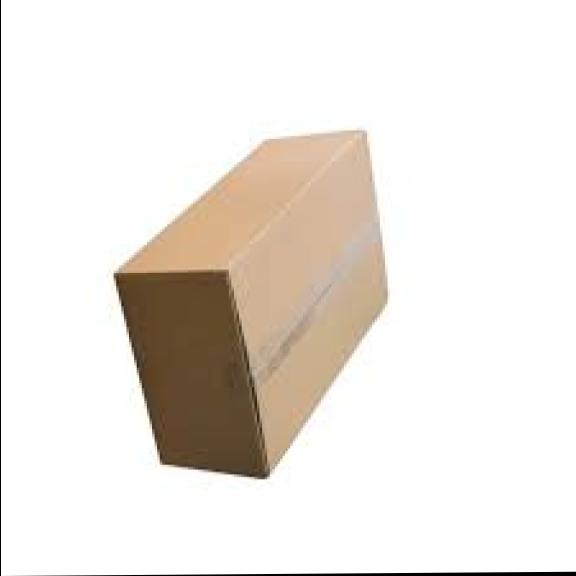Kertas: (118, 130, 387, 474)
